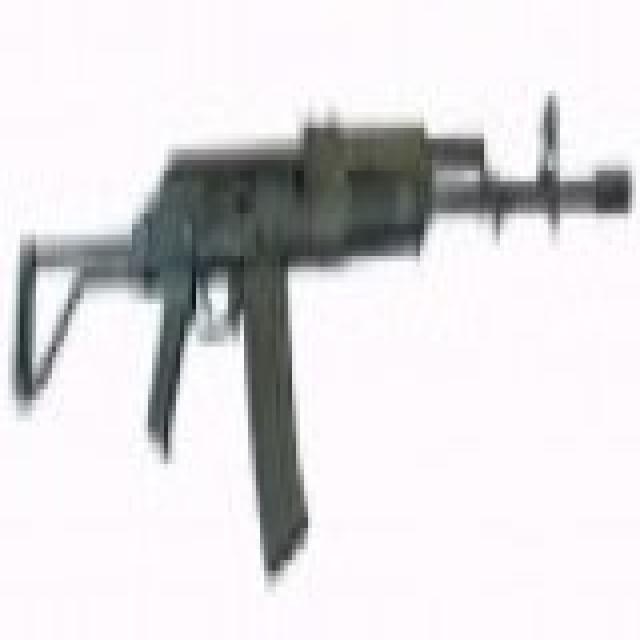Gun: (2, 71, 608, 594)
